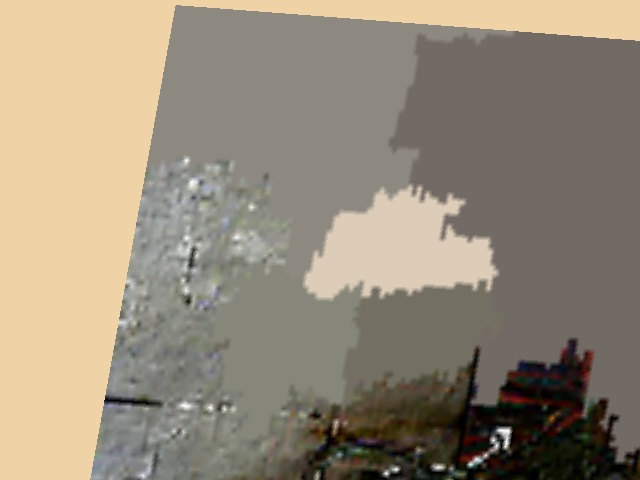two: (513, 177, 558, 217)
